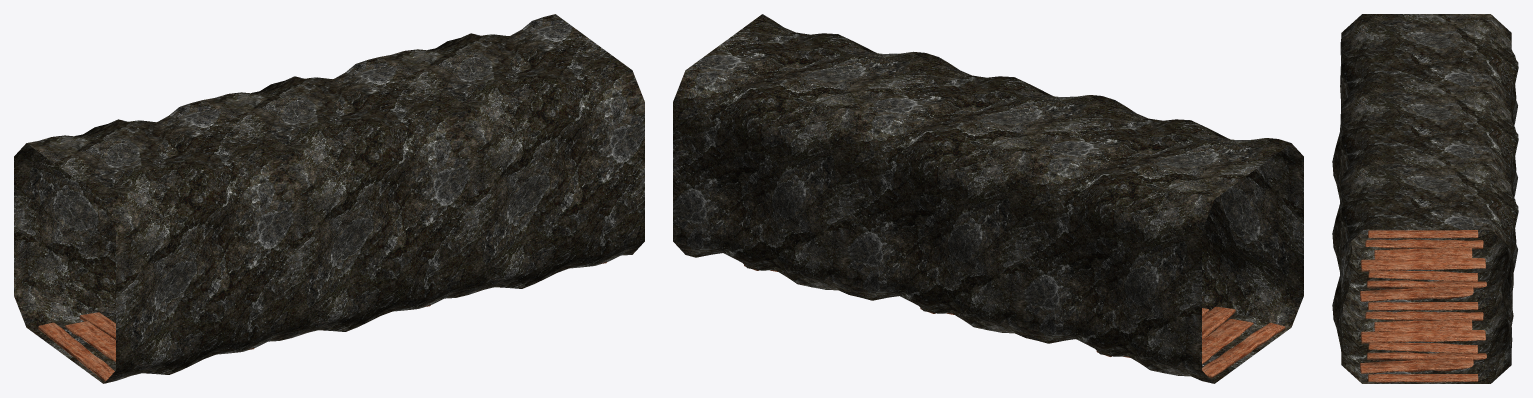
File: Cave_043.fbx
The picture shows the model from 3 angles, left to right: view 1: azimuth 30°, elevation 25°; view 2: azimuth 150°, elevation 25°; view 3: azimuth 270°, elevation 25°; orthographic projection. The views are drawn at different scales.
Parts seen in each view (by area): view 1: Cave.043; view 2: Cave.043; view 3: Cave.043.
Part boxes in pixels (left/top/right/bottom): Cave.043: left=14, top=14, right=644, bottom=383; Cave.043: left=673, top=14, right=1303, bottom=383; Cave.043: left=1332, top=14, right=1518, bottom=383.
Bounding box in the file's own units: 900 × 313 × 328.
